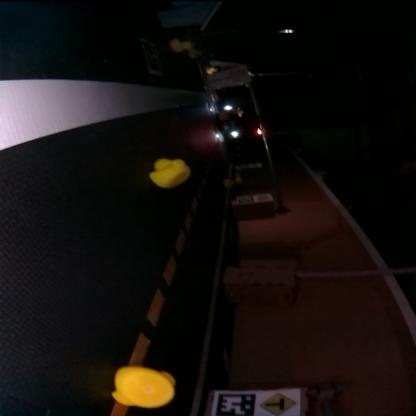Duckie: (113, 366, 177, 408), (150, 160, 192, 188), (172, 40, 194, 52), (223, 180, 235, 186)
Duckiebot: (216, 105, 242, 139)
Intersection sign: (259, 392, 299, 415)
QR code: (216, 392, 257, 414), (142, 40, 166, 76), (238, 198, 254, 202)
Traffic light: (258, 128, 264, 134)
